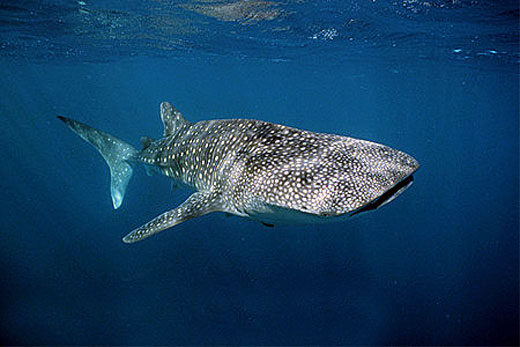Rhincodon_typusw: (51, 93, 445, 260)
